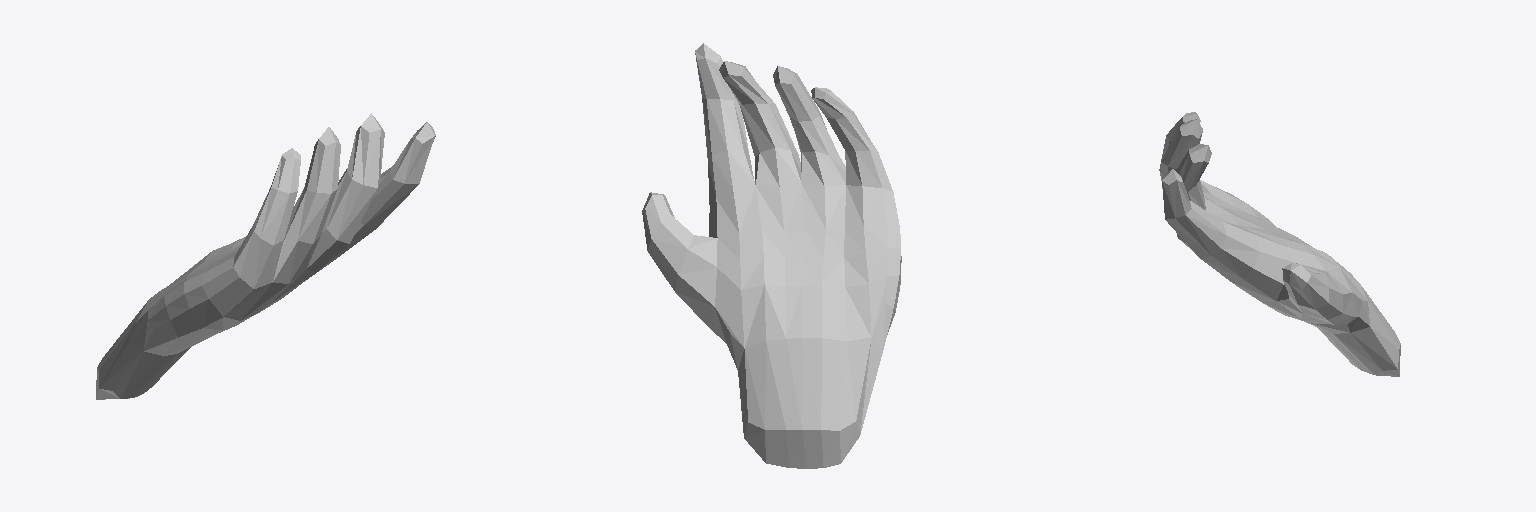
File: LHand.OBJ
3 renders of one model, left to right at view 1: azimuth 30°, elevation 25°; view 2: azimuth 150°, elevation 25°; view 3: azimuth 270°, elevation 25°, orthographic.
Parts seen in each view (by area): view 1: ZBrush_defualt_group; view 2: ZBrush_defualt_group; view 3: ZBrush_defualt_group.
Part boxes in pixels (x1,y1,x2,y2): ZBrush_defualt_group: (96,113,435,399); ZBrush_defualt_group: (642,43,901,468); ZBrush_defualt_group: (1159,112,1400,376).
Size of the model in its own units: 8.03 by 9.37 by 6.73.